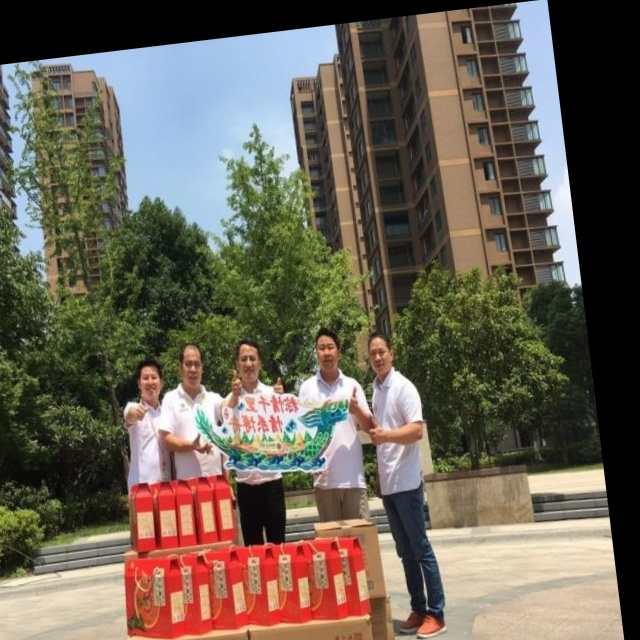Sin_Casco_Mascarrilla: (312, 325, 343, 375), (176, 341, 207, 389), (366, 328, 394, 381), (135, 355, 165, 404), (234, 338, 263, 386)
